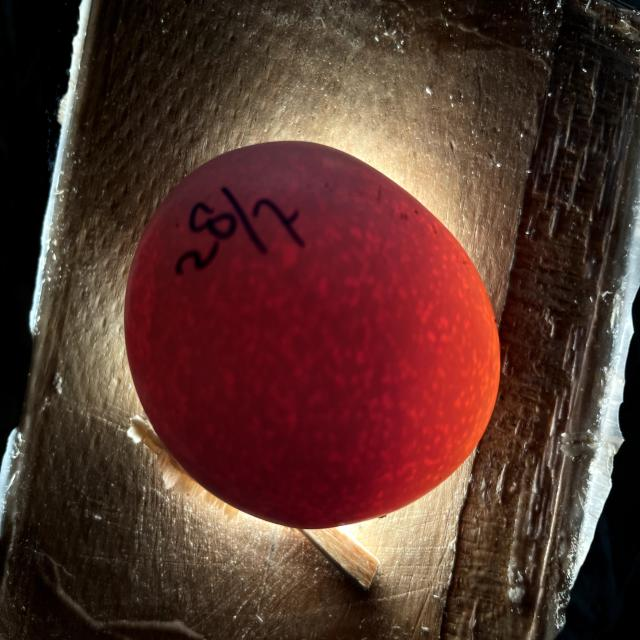fertile: (124, 142, 500, 528)
